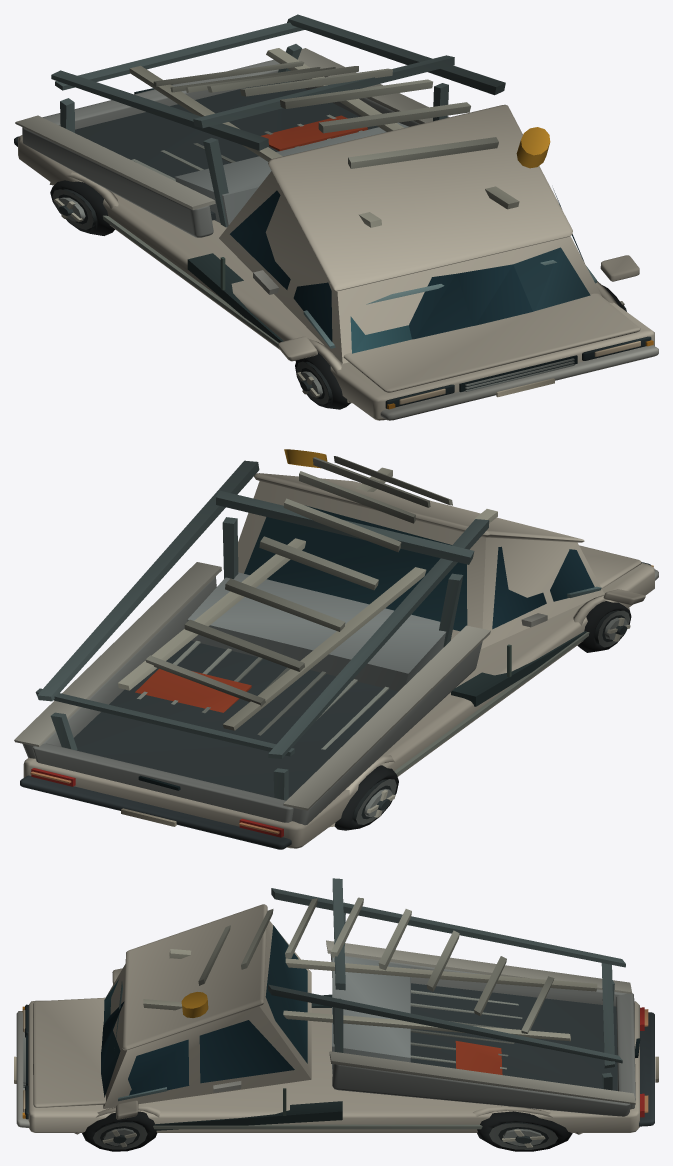
The model's file is ute.glb.
The picture shows the model from 3 angles, top to bottom: view 1: azimuth 30°, elevation 25°; view 2: azimuth 150°, elevation 25°; view 3: azimuth 270°, elevation 25°; orthographic projection. The views are drawn at different scales.
Visible parts, largest first — view 1: ute_body; view 2: ute_body; view 3: ute_body.
Boxes of the visible parts, x1,y1,x2,y2 form: ute_body: (14, 14, 658, 420); ute_body: (14, 449, 658, 849); ute_body: (14, 878, 658, 1151).
Size of the model in its own units: 2.55 by 1.37 by 4.75.
